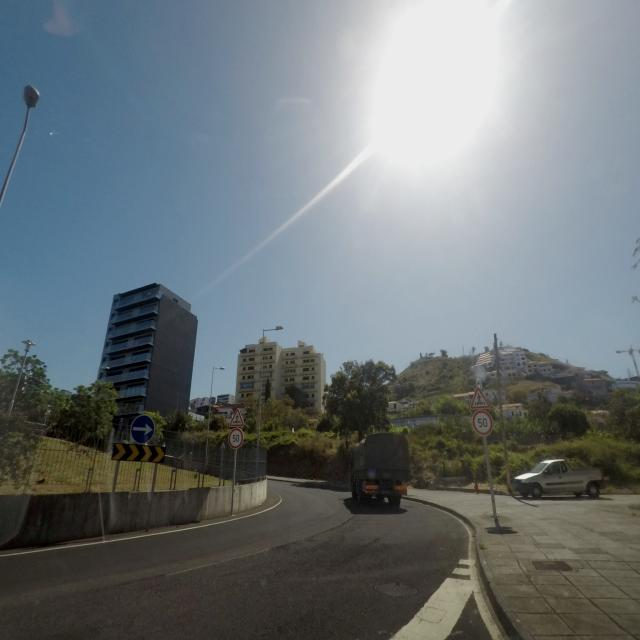car: (348, 432, 410, 508), (511, 456, 605, 501)
